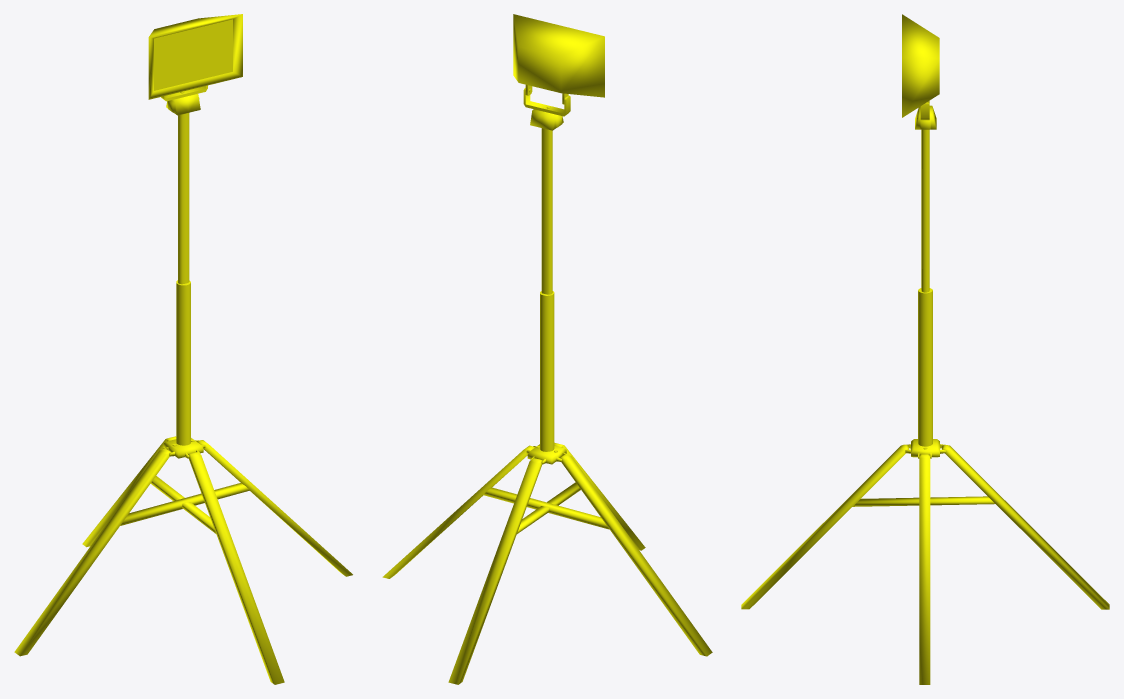
The model's file is Construction_Light.fbx.
The picture shows the model from 3 angles, left to right: view 1: azimuth 30°, elevation 25°; view 2: azimuth 150°, elevation 25°; view 3: azimuth 270°, elevation 25°; orthographic projection. The views are drawn at different scales.
Parts seen in each view (by area): view 1: Construction_Light; view 2: Construction_Light; view 3: Construction_Light.
Boxes of the visible parts, left/top/right/bottom form: Construction_Light: left=14, top=14, right=352, bottom=684; Construction_Light: left=382, top=14, right=712, bottom=684; Construction_Light: left=741, top=14, right=1109, bottom=684.
Size of the model in its own units: 100 by 171 by 99.97.
